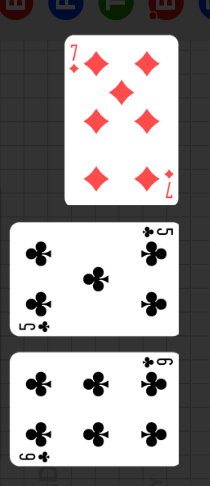6C: (18, 449, 53, 463)
7D: (163, 167, 176, 200), (68, 43, 80, 75)
